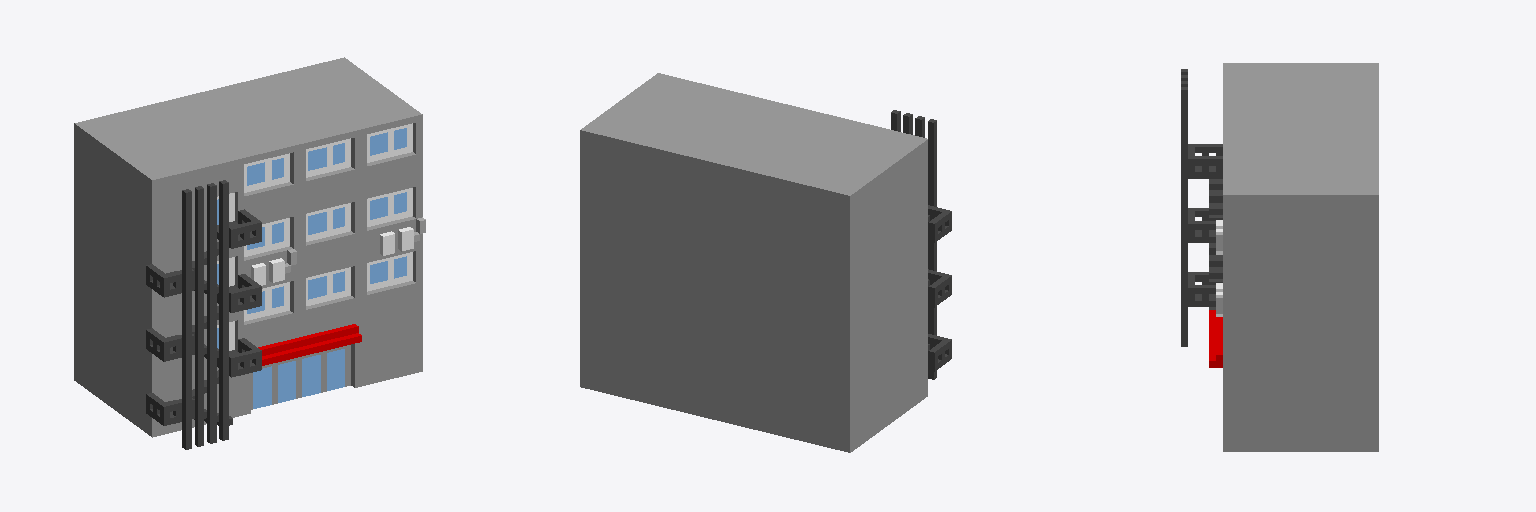
3 renders of one model, left to right at view 1: azimuth 30°, elevation 25°; view 2: azimuth 150°, elevation 25°; view 3: azimuth 270°, elevation 25°, orthographic.
Parts seen in each view (by area): view 1: L_CT; view 2: L_CT; view 3: L_CT.
Boxes of the visible parts, <box> form: L_CT: <box>74,57,425,449</box>; L_CT: <box>580,73,951,452</box>; L_CT: <box>1181,63,1378,451</box>.
Bounding box in the file's own units: 45 × 40 × 28.
Materials: 1 (1 with a texture image).